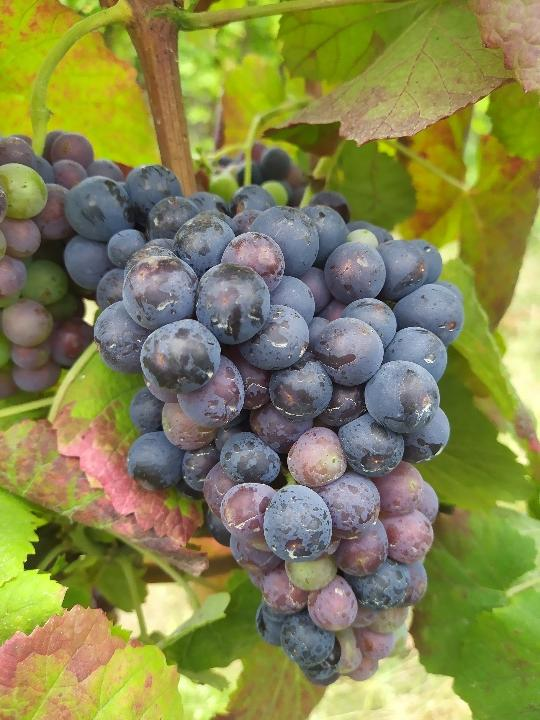grape: (61, 166, 466, 686)
